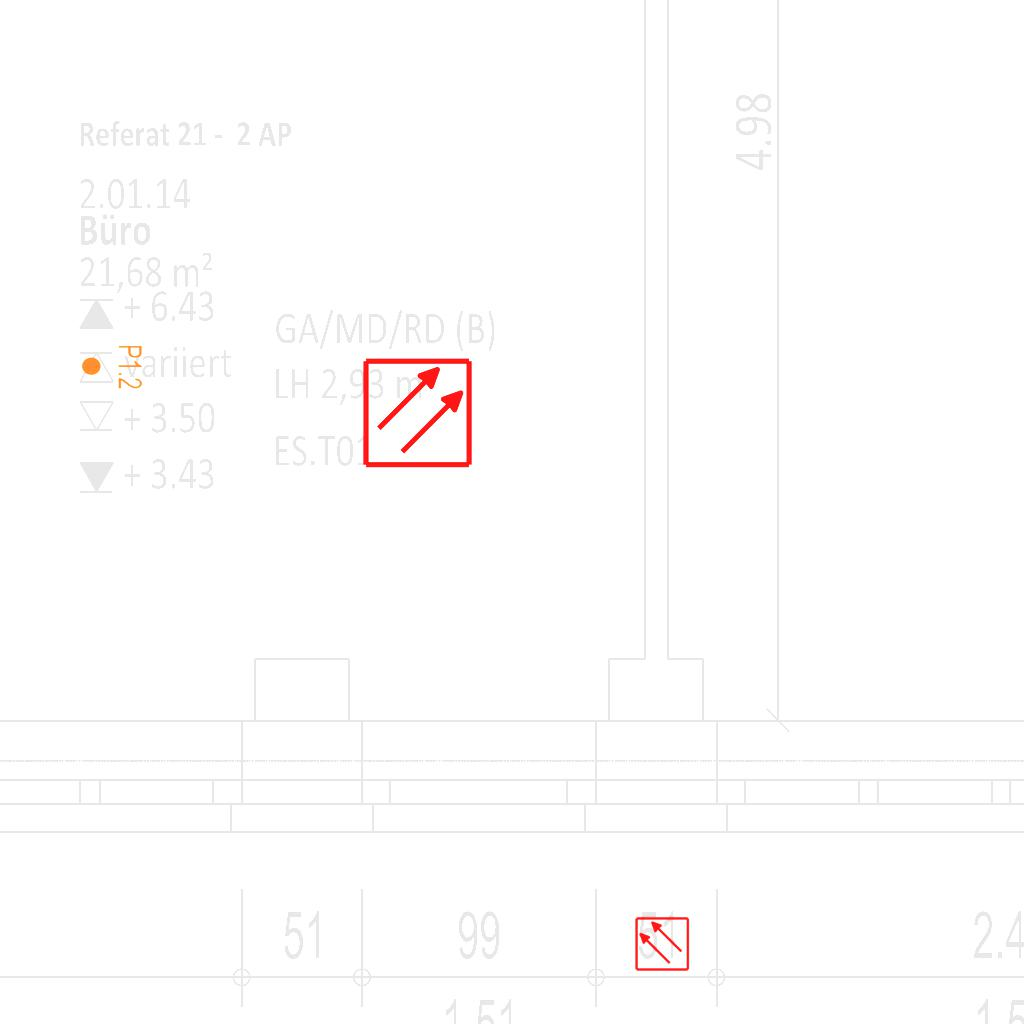Downlight_LED_Einbauleuchten_Flur: (80, 344, 144, 390)
RMO_Rauchmelder_optischer: (361, 356, 474, 469), (634, 916, 690, 972)
